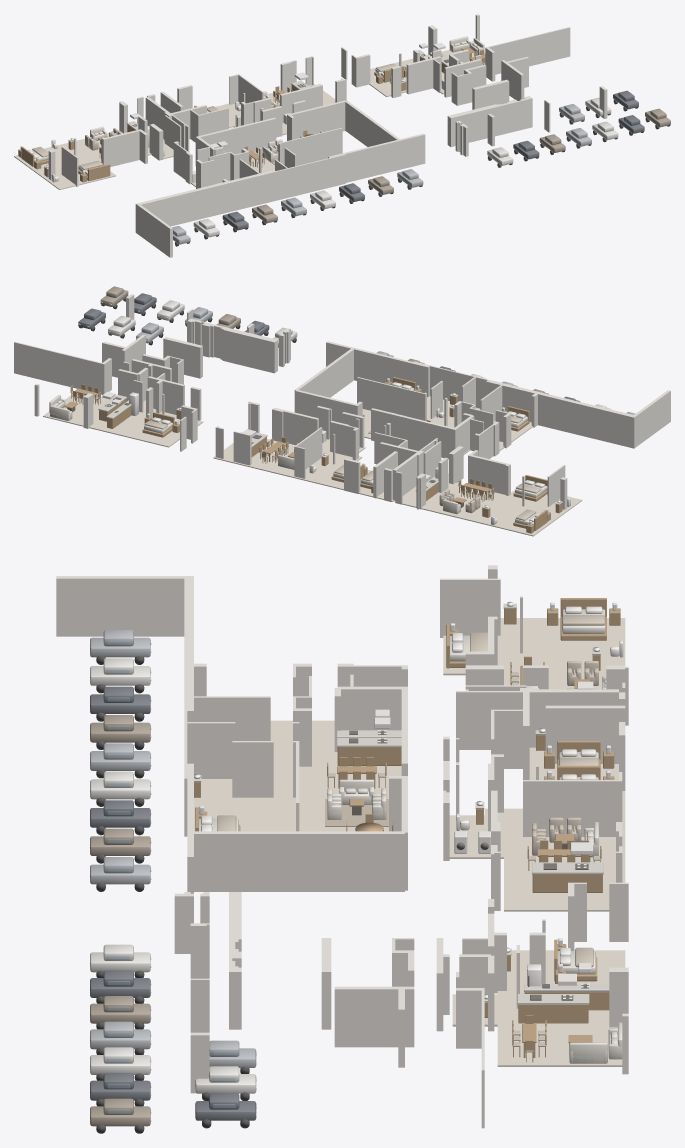
File: alheli-pb.glb
The picture shows the model from 3 angles, top to bottom: view 1: azimuth 30°, elevation 25°; view 2: azimuth 150°, elevation 25°; view 3: azimuth 270°, elevation 25°; orthographic projection. The views are drawn at different scales.
Parts seen in each view (by area): view 1: walls, floor_u2_0, floor_u4_0, floor_u3_0; view 2: walls, floor_u2_0, floor_u3_0, floor_u4_0, floor_u1_0; view 3: walls, floor_u1_0, floor_u3_0, floor_u4_0, floor_u2_0, body.005, body.003, body.001, body.009, body.006, body.011, body.014 (+14 smaller).
Boxes of the visible parts, x1,y1,x2,y2 form: walls: (48, 14, 607, 257); floor_u2_0: (14, 130, 173, 189); floor_u4_0: (369, 49, 485, 96); floor_u3_0: (215, 84, 335, 135); walls: (14, 294, 670, 509); floor_u2_0: (395, 473, 582, 536); floor_u3_0: (213, 439, 394, 501); floor_u4_0: (43, 393, 203, 447); floor_u1_0: (362, 396, 532, 454); walls: (56, 565, 628, 1128); floor_u1_0: (194, 720, 401, 831); floor_u3_0: (449, 747, 625, 911); floor_u4_0: (452, 950, 625, 1066); floor_u2_0: (443, 618, 625, 689); body.005: (518, 1004, 588, 1023); body.003: (532, 874, 602, 892); body.001: (337, 747, 401, 765); body.009: (90, 722, 150, 742); body.006: (90, 637, 150, 657); body.011: (90, 779, 150, 799); body.014: (90, 864, 150, 884).
Size of the model in its own units: 757 by 41.22 by 358.
